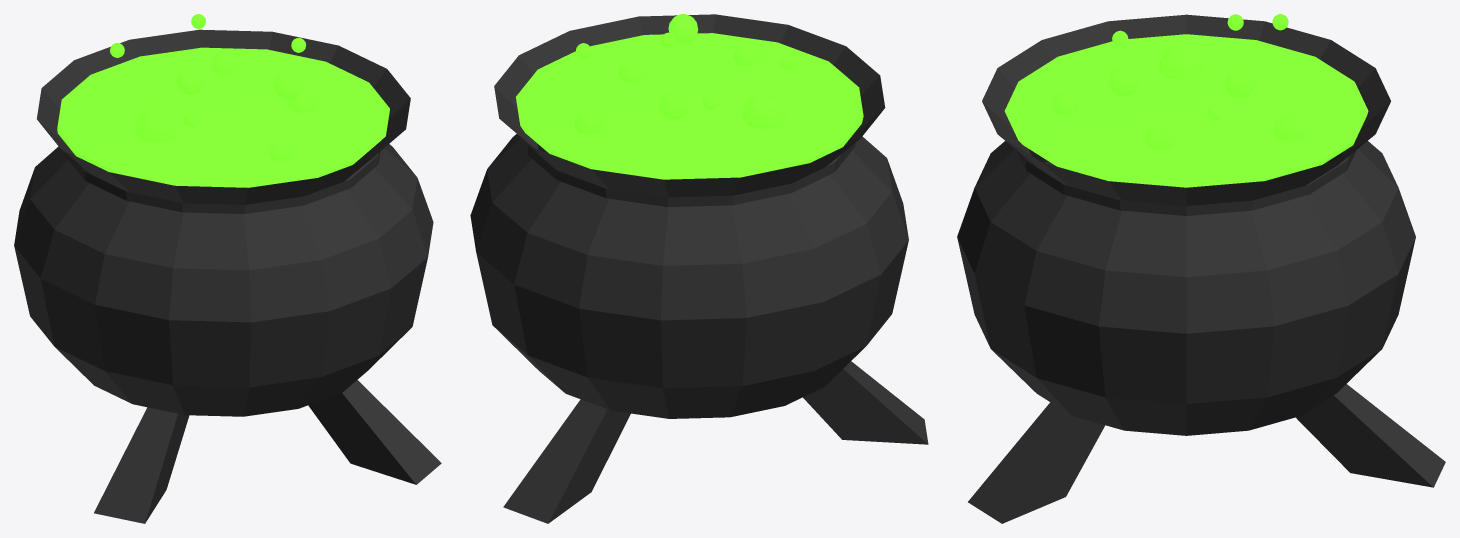
The model's file is pot.fbx.
3 views of the same model, side by side, from view 1: azimuth 30°, elevation 25°; view 2: azimuth 150°, elevation 25°; view 3: azimuth 270°, elevation 25° (orthographic). The views are drawn at different scales.
Visible parts, largest first — view 1: pot; view 2: pot; view 3: pot.
Boxes of the visible parts, x1=… form: pot: x1=14, y1=14, x2=441, y2=523; pot: x1=470, y1=14, x2=928, y2=523; pot: x1=957, y1=14, x2=1445, y2=523.
Size of the model in its own units: 2 by 2.13 by 2.1.
